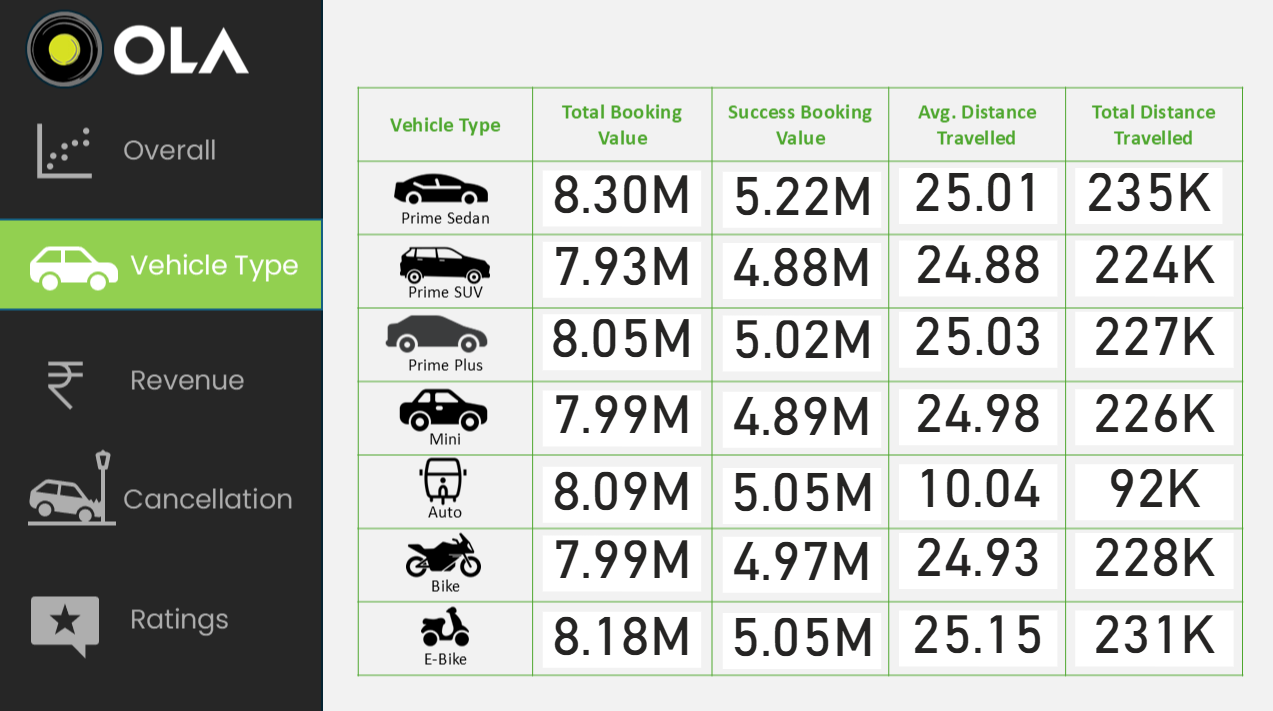

The dashboard page shown, as its layout file describes it:
{"tool":"powerbi","page":{"name":"Vehicle Type ","canvas":[1280,720],"ordinal":1},"visuals":[{"type":"actionButton","box":[0,107,323.8,90.6],"z":0},{"type":"actionButton","box":[0,338.9,323.8,90.6],"z":1000},{"type":"actionButton","box":[0,441.9,323.8,109.8],"z":2000},{"type":"actionButton","box":[0,580.4,323.8,90.6],"z":3000},{"type":"card","fields":{"Values":["Sum(olasheet.Booking_Value)"]},"box":[544.2,172.1,158.1,55.8],"z":4000},{"type":"card","fields":{"Values":["Sum(olasheet.Booking_Value)"]},"box":[544.2,244.2,158.1,55.8],"z":5000},{"type":"card","fields":{"Values":["Sum(olasheet.Booking_Value)"]},"box":[544.2,316.3,158.1,55.8],"z":6000},{"type":"card","fields":{"Values":["Sum(olasheet.Booking_Value)"]},"box":[544.2,393,158.1,55.8],"z":7000},{"type":"card","fields":{"Values":["Sum(olasheet.Booking_Value)"]},"box":[544.2,468.6,158.1,55.8],"z":8000},{"type":"card","fields":{"Values":["Sum(olasheet.Booking_Value)"]},"box":[544.2,537.2,158.1,55.8],"z":9000},{"type":"card","fields":{"Values":["Sum(olasheet.Booking_Value)"]},"box":[544.2,614,158.1,55.8],"z":10000},{"type":"card","fields":{"Values":["Sum(olasheet.Booking_Value)"]},"box":[724.3,173.3,158.1,55.8],"z":11000},{"type":"card","fields":{"Values":["Sum(olasheet.Booking_Value)"]},"box":[724.3,245.4,158.1,55.8],"z":12000},{"type":"card","fields":{"Values":["Sum(olasheet.Booking_Value)"]},"box":[724.3,317.5,158.1,55.8],"z":13000},{"type":"card","fields":{"Values":["Sum(olasheet.Booking_Value)"]},"box":[724.3,394.2,158.1,55.8],"z":14000},{"type":"card","fields":{"Values":["Sum(olasheet.Booking_Value)"]},"box":[724.3,469.8,158.1,55.8],"z":15000},{"type":"card","fields":{"Values":["Sum(olasheet.Booking_Value)"]},"box":[724.3,538.4,158.1,55.8],"z":16000},{"type":"card","fields":{"Values":["Sum(olasheet.Booking_Value)"]},"box":[724.3,615.2,158.1,55.8],"z":17000},{"type":"card","fields":{"Values":["Avg(olasheet.Ride_Distance)"]},"box":[900,170,158.1,55.8],"z":18000},{"type":"card","fields":{"Values":["Avg(olasheet.Ride_Distance)"]},"box":[900,242.1,158.1,55.8],"z":19000},{"type":"card","fields":{"Values":["Avg(olasheet.Ride_Distance)"]},"box":[900,314.2,158.1,55.8],"z":20000},{"type":"card","fields":{"Values":["Avg(olasheet.Ride_Distance)"]},"box":[900,390.9,158.1,55.8],"z":21000},{"type":"card","fields":{"Values":["Avg(olasheet.Ride_Distance)"]},"box":[900,466.5,158.1,55.8],"z":22000},{"type":"card","fields":{"Values":["Avg(olasheet.Ride_Distance)"]},"box":[900,535.1,158.1,55.8],"z":23000},{"type":"card","fields":{"Values":["Avg(olasheet.Ride_Distance)"]},"box":[900,611.9,158.1,55.8],"z":24000},{"type":"card","fields":{"Values":["Sum(olasheet.Ride_Distance)"]},"box":[1075.8,170.2,146.8,56.3],"z":25000},{"type":"card","fields":{"Values":["Sum(olasheet.Ride_Distance)"]},"box":[1075.6,242.1,158.1,55.8],"z":26000},{"type":"card","fields":{"Values":["Sum(olasheet.Ride_Distance)"]},"box":[1075.6,314.2,158.1,55.8],"z":27000},{"type":"card","fields":{"Values":["Sum(olasheet.Ride_Distance)"]},"box":[1075.6,390.9,158.1,55.8],"z":28000},{"type":"card","fields":{"Values":["Sum(olasheet.Ride_Distance)"]},"box":[1075.6,466.5,158.1,55.8],"z":29000},{"type":"card","fields":{"Values":["Sum(olasheet.Ride_Distance)"]},"box":[1075.6,535.1,158.1,55.8],"z":30000},{"type":"card","fields":{"Values":["Sum(olasheet.Ride_Distance)"]},"box":[1075.6,611.9,158.1,55.8],"z":31000}]}

Visuals, with their boxes on the page's 1280x720 design canvas (x1, y1, x2, y2). These are canvas units, not pixel positions in the 1273x711 screenshot, which may show the page scaled, cropped or inside an application window:
actionButton: 0 107 324 198
actionButton: 0 339 324 430
actionButton: 0 442 324 552
actionButton: 0 580 324 671
card - Sum(olasheet.Booking_Value): 544 172 702 228
card - Sum(olasheet.Booking_Value): 544 244 702 300
card - Sum(olasheet.Booking_Value): 544 316 702 372
card - Sum(olasheet.Booking_Value): 544 393 702 449
card - Sum(olasheet.Booking_Value): 544 469 702 524
card - Sum(olasheet.Booking_Value): 544 537 702 593
card - Sum(olasheet.Booking_Value): 544 614 702 670
card - Sum(olasheet.Booking_Value): 724 173 882 229
card - Sum(olasheet.Booking_Value): 724 245 882 301
card - Sum(olasheet.Booking_Value): 724 318 882 373
card - Sum(olasheet.Booking_Value): 724 394 882 450
card - Sum(olasheet.Booking_Value): 724 470 882 526
card - Sum(olasheet.Booking_Value): 724 538 882 594
card - Sum(olasheet.Booking_Value): 724 615 882 671
card - Avg(olasheet.Ride_Distance): 900 170 1058 226
card - Avg(olasheet.Ride_Distance): 900 242 1058 298
card - Avg(olasheet.Ride_Distance): 900 314 1058 370
card - Avg(olasheet.Ride_Distance): 900 391 1058 447
card - Avg(olasheet.Ride_Distance): 900 466 1058 522
card - Avg(olasheet.Ride_Distance): 900 535 1058 591
card - Avg(olasheet.Ride_Distance): 900 612 1058 668
card - Sum(olasheet.Ride_Distance): 1076 170 1223 226
card - Sum(olasheet.Ride_Distance): 1076 242 1234 298
card - Sum(olasheet.Ride_Distance): 1076 314 1234 370
card - Sum(olasheet.Ride_Distance): 1076 391 1234 447
card - Sum(olasheet.Ride_Distance): 1076 466 1234 522
card - Sum(olasheet.Ride_Distance): 1076 535 1234 591
card - Sum(olasheet.Ride_Distance): 1076 612 1234 668
